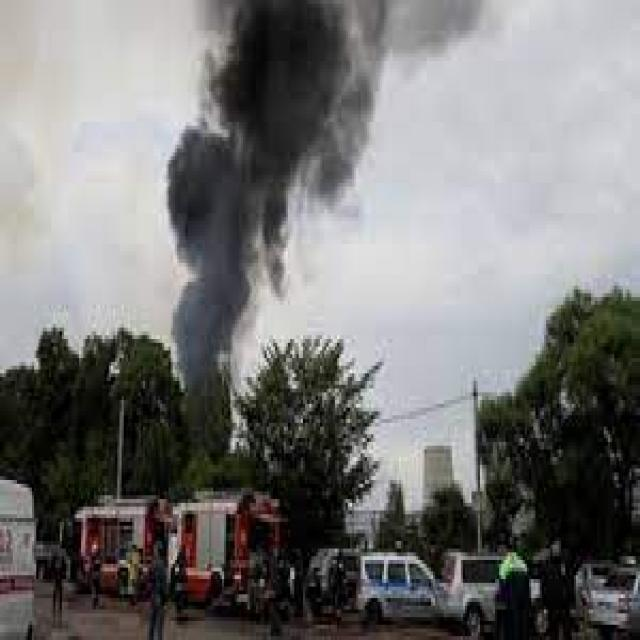smoke: (160, 4, 529, 381)
